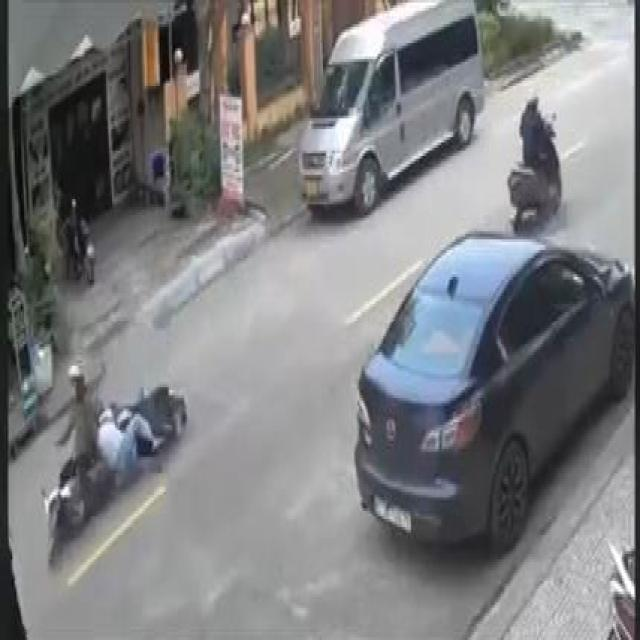accident: (38, 348, 194, 572)
non_accident: (349, 81, 635, 559)
